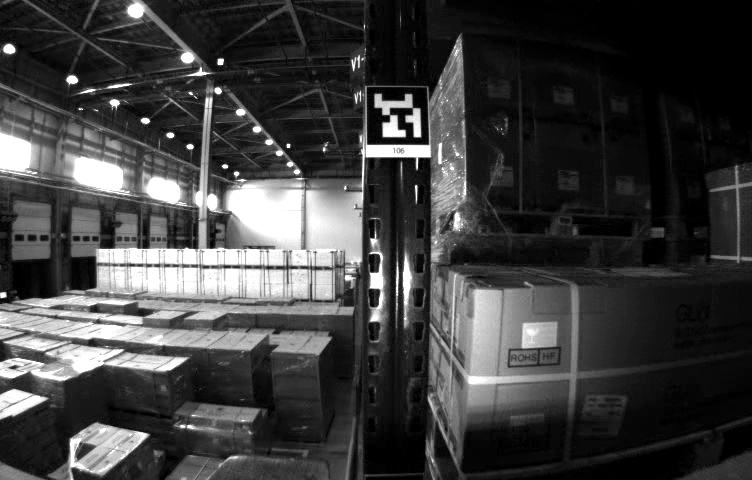True Barcode: (579, 394, 626, 437)
